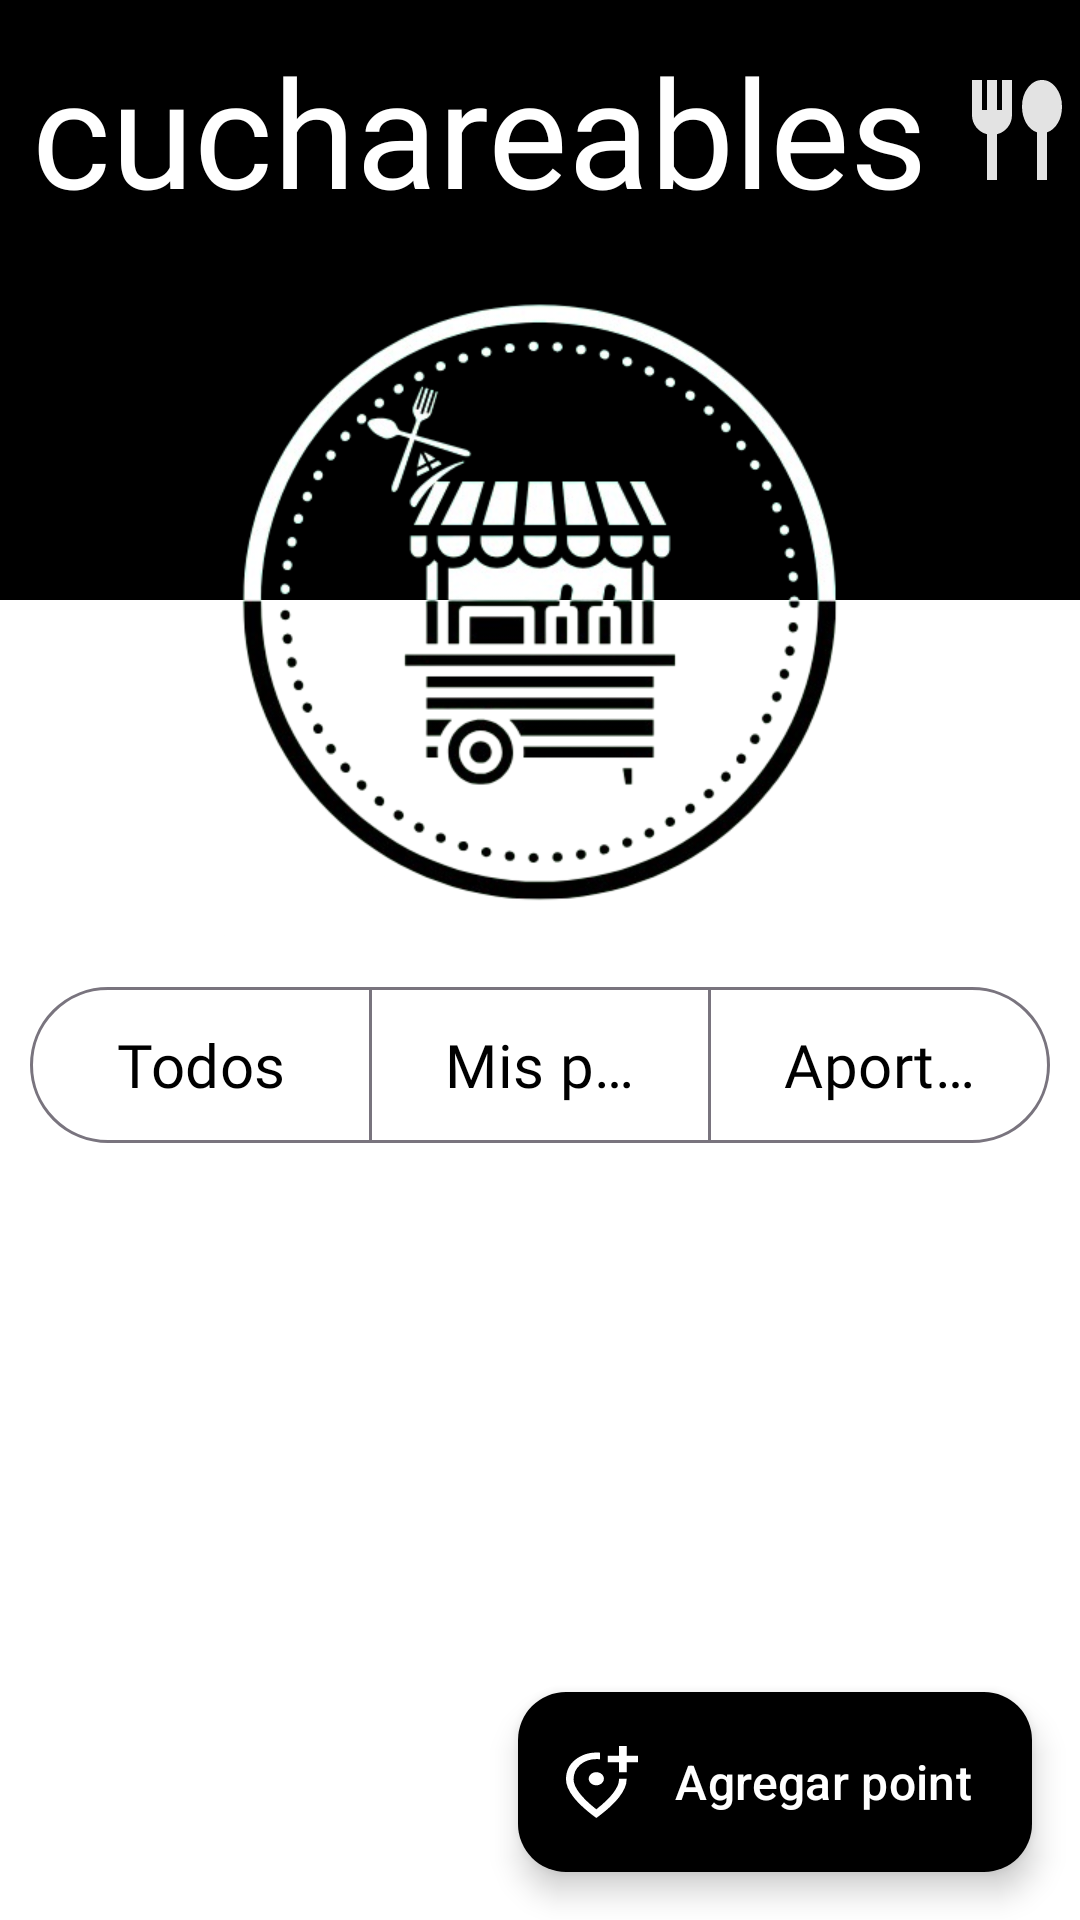

Screen size 1080x1920. Icon name, then its box in pixels as [left=x1, top=y1, right=x2, bottom=y2]:
cuchara tenedor: [left=972, top=80, right=1062, bottom=180]
